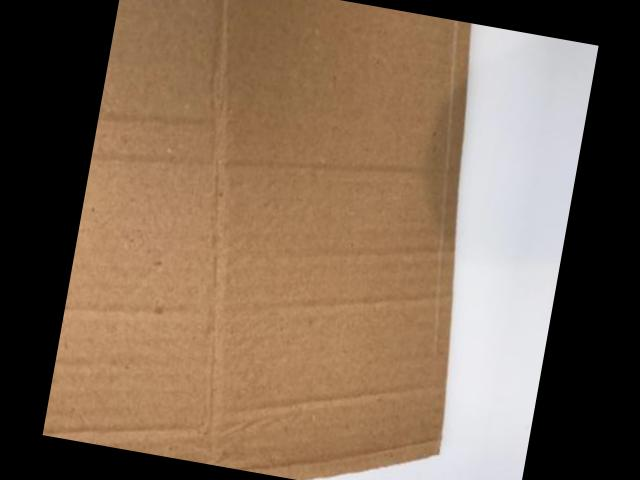cardboard paper: (42, 0, 466, 479)
